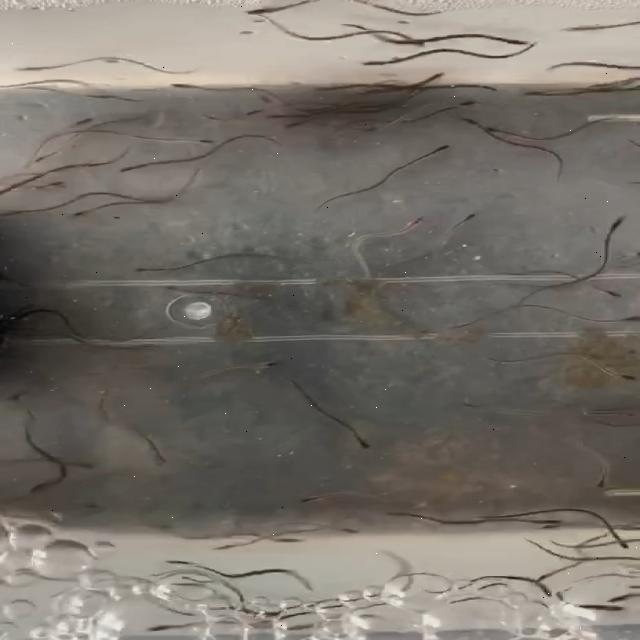active_glass_eel: (482, 28, 528, 46), (388, 28, 428, 48), (454, 109, 488, 129), (71, 88, 122, 100), (240, 2, 278, 18), (146, 620, 188, 634), (604, 212, 628, 236), (453, 210, 481, 230), (248, 357, 288, 371), (347, 431, 372, 453), (394, 215, 424, 232), (420, 67, 448, 85), (299, 491, 335, 505), (65, 113, 98, 128), (324, 524, 365, 536), (264, 110, 304, 122), (514, 518, 562, 528), (214, 538, 252, 550), (178, 134, 215, 146), (115, 160, 146, 174), (358, 57, 394, 69), (518, 86, 554, 98), (166, 79, 202, 91), (446, 98, 482, 110), (588, 286, 624, 298), (242, 104, 272, 118), (605, 370, 640, 382), (13, 62, 54, 72), (478, 122, 512, 134), (610, 534, 632, 552), (285, 116, 313, 130), (69, 204, 92, 221), (462, 82, 500, 92), (615, 313, 640, 328), (166, 554, 192, 568), (423, 142, 453, 154), (536, 567, 560, 582), (29, 478, 51, 494), (39, 178, 64, 192), (592, 469, 610, 488), (540, 520, 568, 532), (260, 536, 302, 544), (564, 23, 596, 33), (535, 584, 555, 600), (150, 448, 168, 465), (72, 462, 102, 472)
